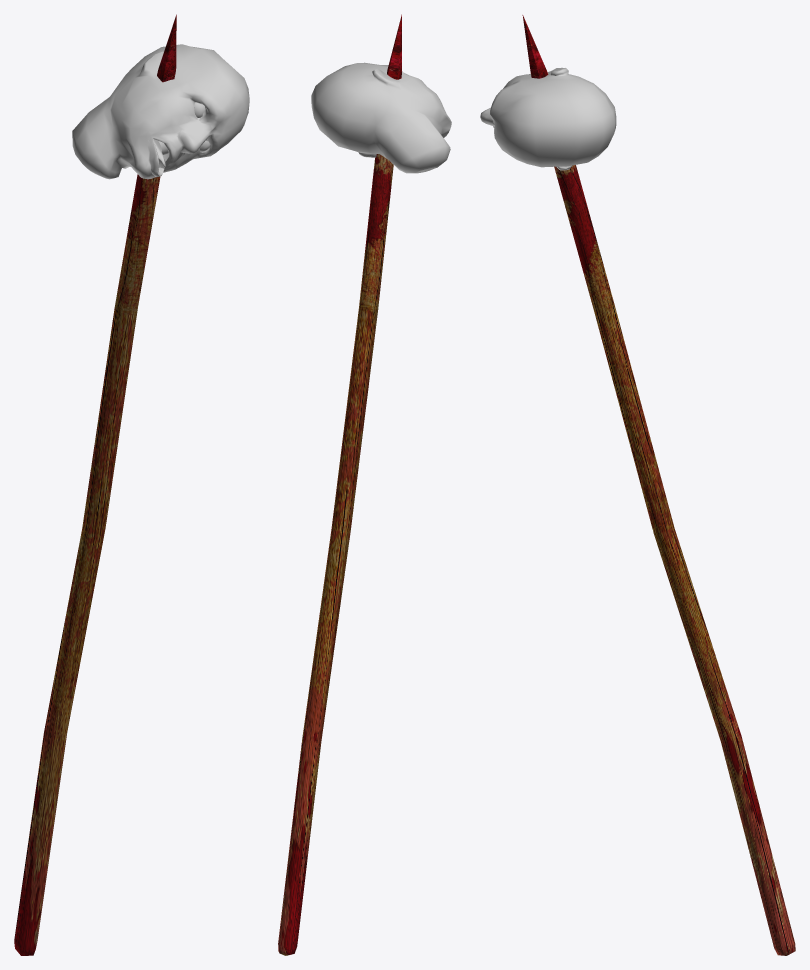
File: severed_exp_10.fbx
3 renders of one model, left to right at view 1: azimuth 30°, elevation 25°; view 2: azimuth 150°, elevation 25°; view 3: azimuth 270°, elevation 25°, orthographic. The views are drawn at different scales.
Visible parts, largest first — view 1: severed_exp_10; view 2: severed_exp_10; view 3: severed_exp_10.
Boxes of the visible parts, bbox=[...] form: severed_exp_10: bbox=[14, 14, 249, 955]; severed_exp_10: bbox=[278, 14, 451, 955]; severed_exp_10: bbox=[480, 15, 795, 955].
Bounding box in the file's own units: 0.3405 × 2.18 × 0.6599.
